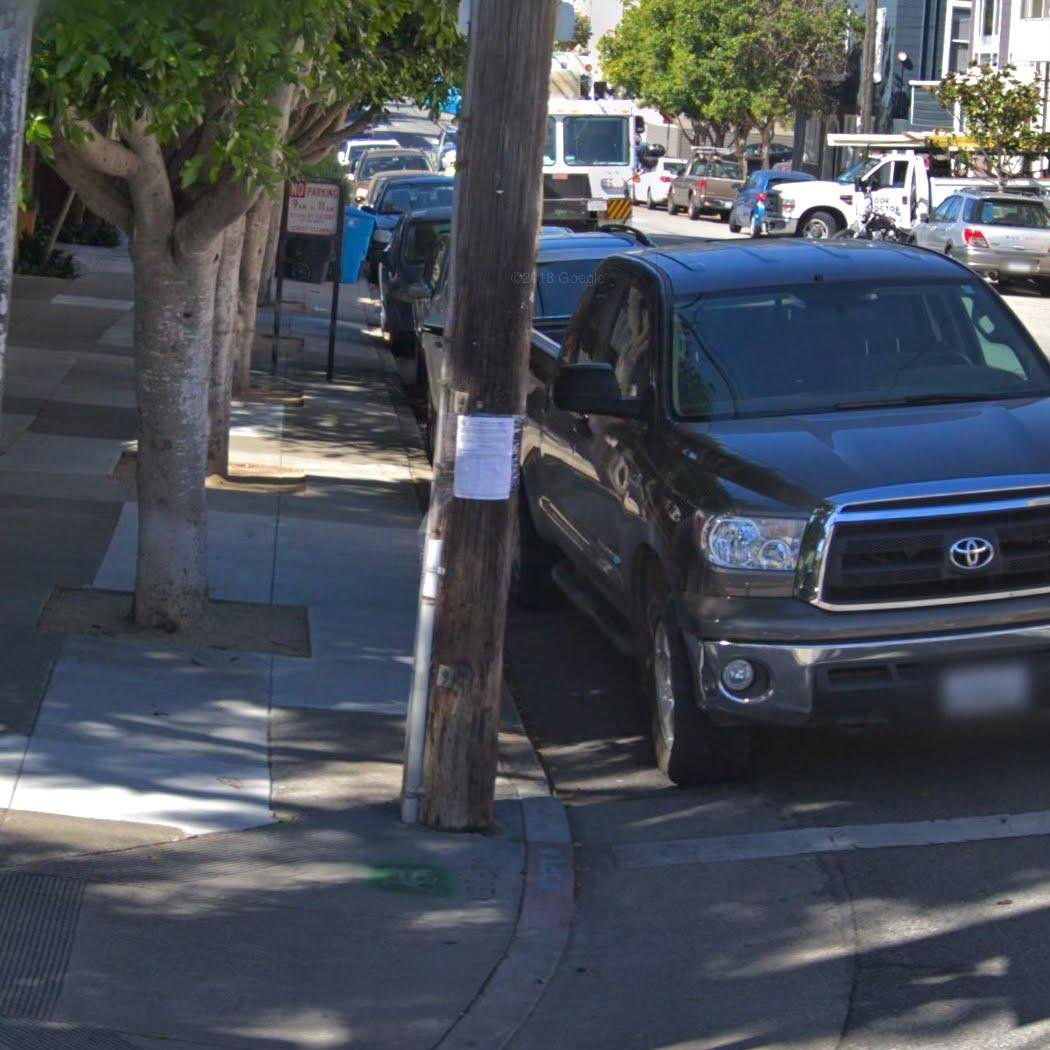No Parking: (283, 176, 343, 237)
